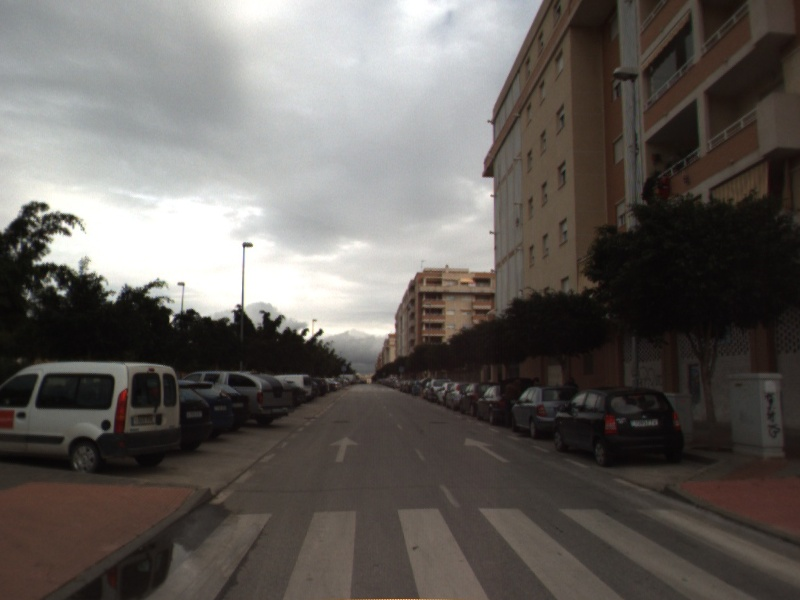STRAIGHT: (462, 435, 513, 464), (327, 434, 362, 464)
